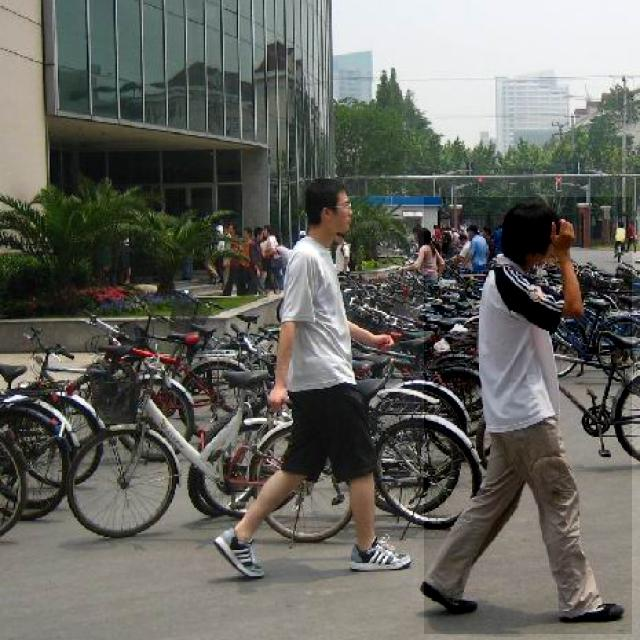with scooter: (424, 197, 632, 634), (216, 175, 418, 585)
